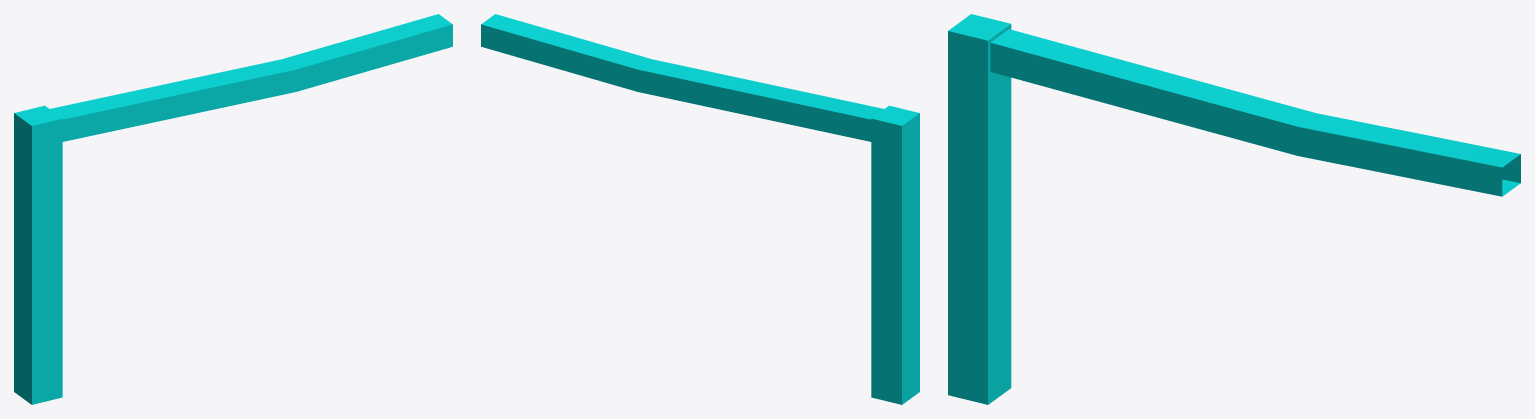
The model's file is m_supportcorner.fbx.
The picture shows the model from 3 angles, left to right: view 1: azimuth 30°, elevation 25°; view 2: azimuth 150°, elevation 25°; view 3: azimuth 330°, elevation 25°; orthographic projection. The views are drawn at different scales.
Parts seen in each view (by area): view 1: m_supportcorner; view 2: m_supportcorner; view 3: m_supportcorner.
Part boxes in pixels (bbox=[...]): m_supportcorner: bbox=[14, 14, 452, 404]; m_supportcorner: bbox=[481, 14, 919, 404]; m_supportcorner: bbox=[948, 14, 1520, 404].
Bounding box in the file's own units: 7.26 × 4.58 × 0.528.
